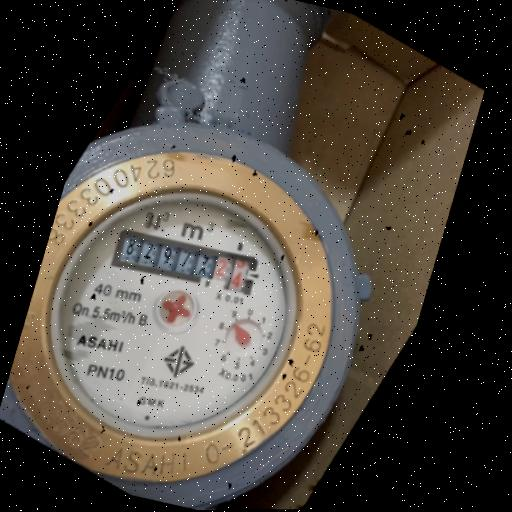2: (139, 241, 159, 267), (213, 257, 231, 282)
4: (229, 259, 250, 291)
7: (175, 249, 196, 274)
8: (119, 236, 140, 263)
9: (157, 246, 177, 271), (195, 255, 214, 279)
border_water_meter_number: (108, 225, 265, 300)
